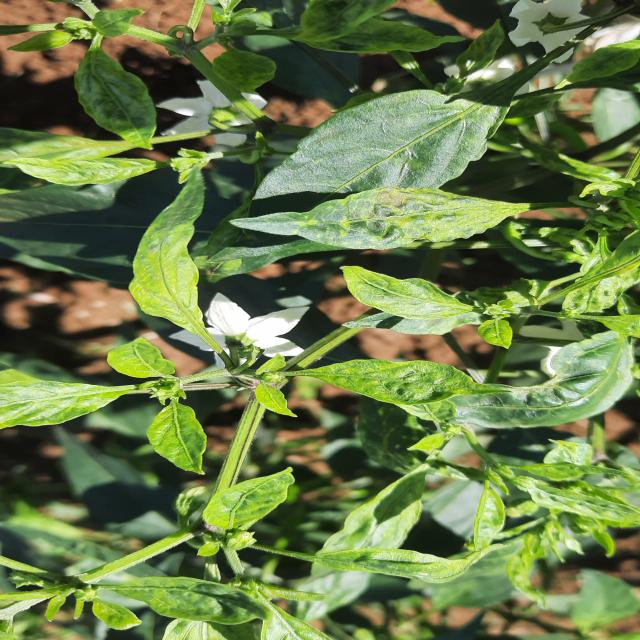thrips: (250, 90, 532, 198), (228, 190, 534, 269), (310, 355, 535, 408)
